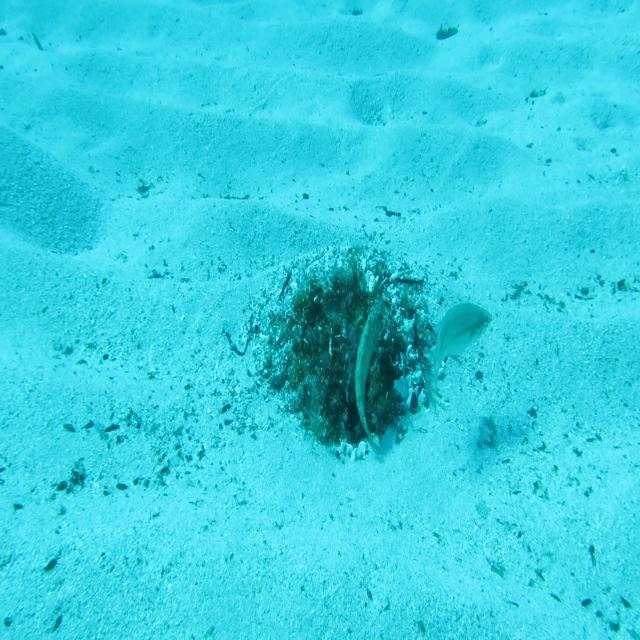LF: (353, 296, 389, 466)
core_nest: (329, 294, 371, 335)
female: (425, 299, 494, 413)
nest: (235, 217, 456, 470)
vegetation: (434, 22, 460, 40)
